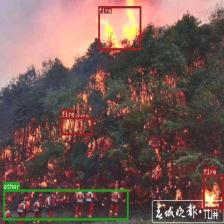fire: (98, 6, 141, 50), (202, 175, 224, 208), (61, 116, 93, 134)
